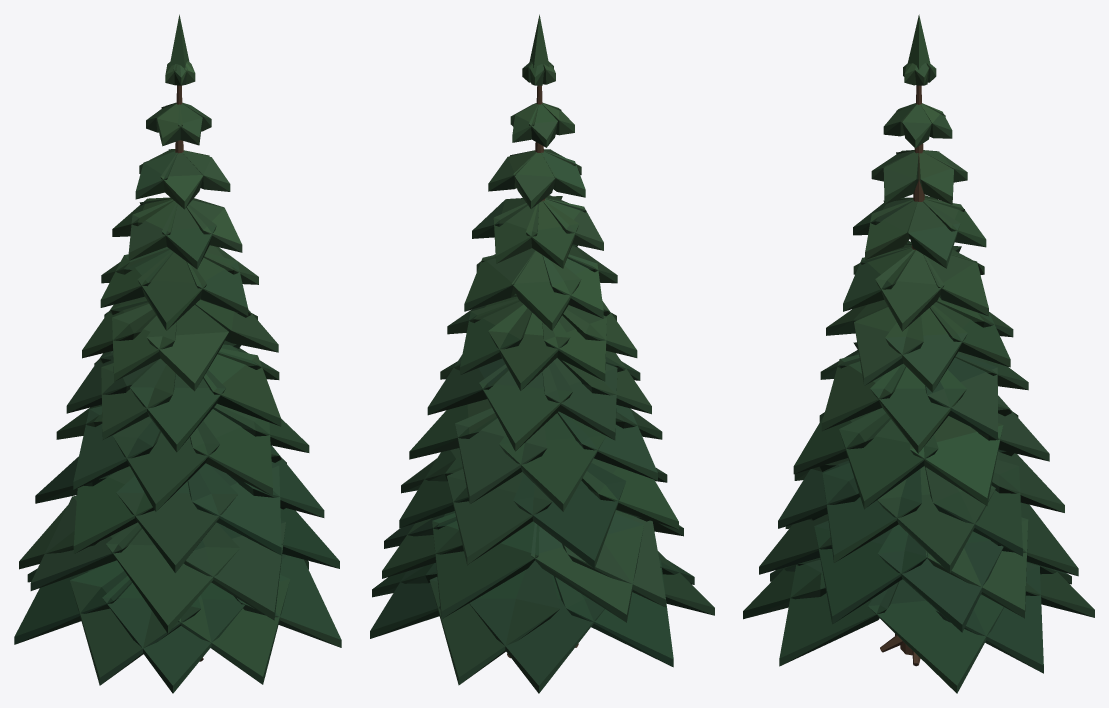
The model's file is Tree_Spruce.glb.
3 views of the same model, side by side, from view 1: azimuth 30°, elevation 25°; view 2: azimuth 150°, elevation 25°; view 3: azimuth 270°, elevation 25° (orthographic).
Visible parts, largest first — view 1: Mat_Leaves_223c27, Mat_Leaves_2b4a2f, Mat_Leaves_1b3120; view 2: Mat_Leaves_2b4a2f, Mat_Leaves_223c27, Mat_Leaves_1b3120; view 3: Mat_Leaves_223c27, Mat_Leaves_2b4a2f, Mat_Leaves_1b3120, Mat_Wood_4d3829.
Boxes of the visible parts, box(x1,y1,x2,y2) form: Mat_Leaves_223c27: box(14, 70, 341, 693); Mat_Leaves_2b4a2f: box(19, 14, 289, 632); Mat_Leaves_1b3120: box(17, 108, 340, 682); Mat_Leaves_2b4a2f: box(382, 14, 682, 614); Mat_Leaves_223c27: box(370, 65, 714, 693); Mat_Leaves_1b3120: box(372, 110, 713, 682); Mat_Leaves_223c27: box(743, 66, 1094, 693); Mat_Leaves_2b4a2f: box(785, 14, 1064, 610); Mat_Leaves_1b3120: box(744, 124, 1093, 687); Mat_Wood_4d3829: box(900, 85, 924, 655).
Size of the model in its own units: 13.61 by 27.7 by 13.87.
1 material, 1 textured.
